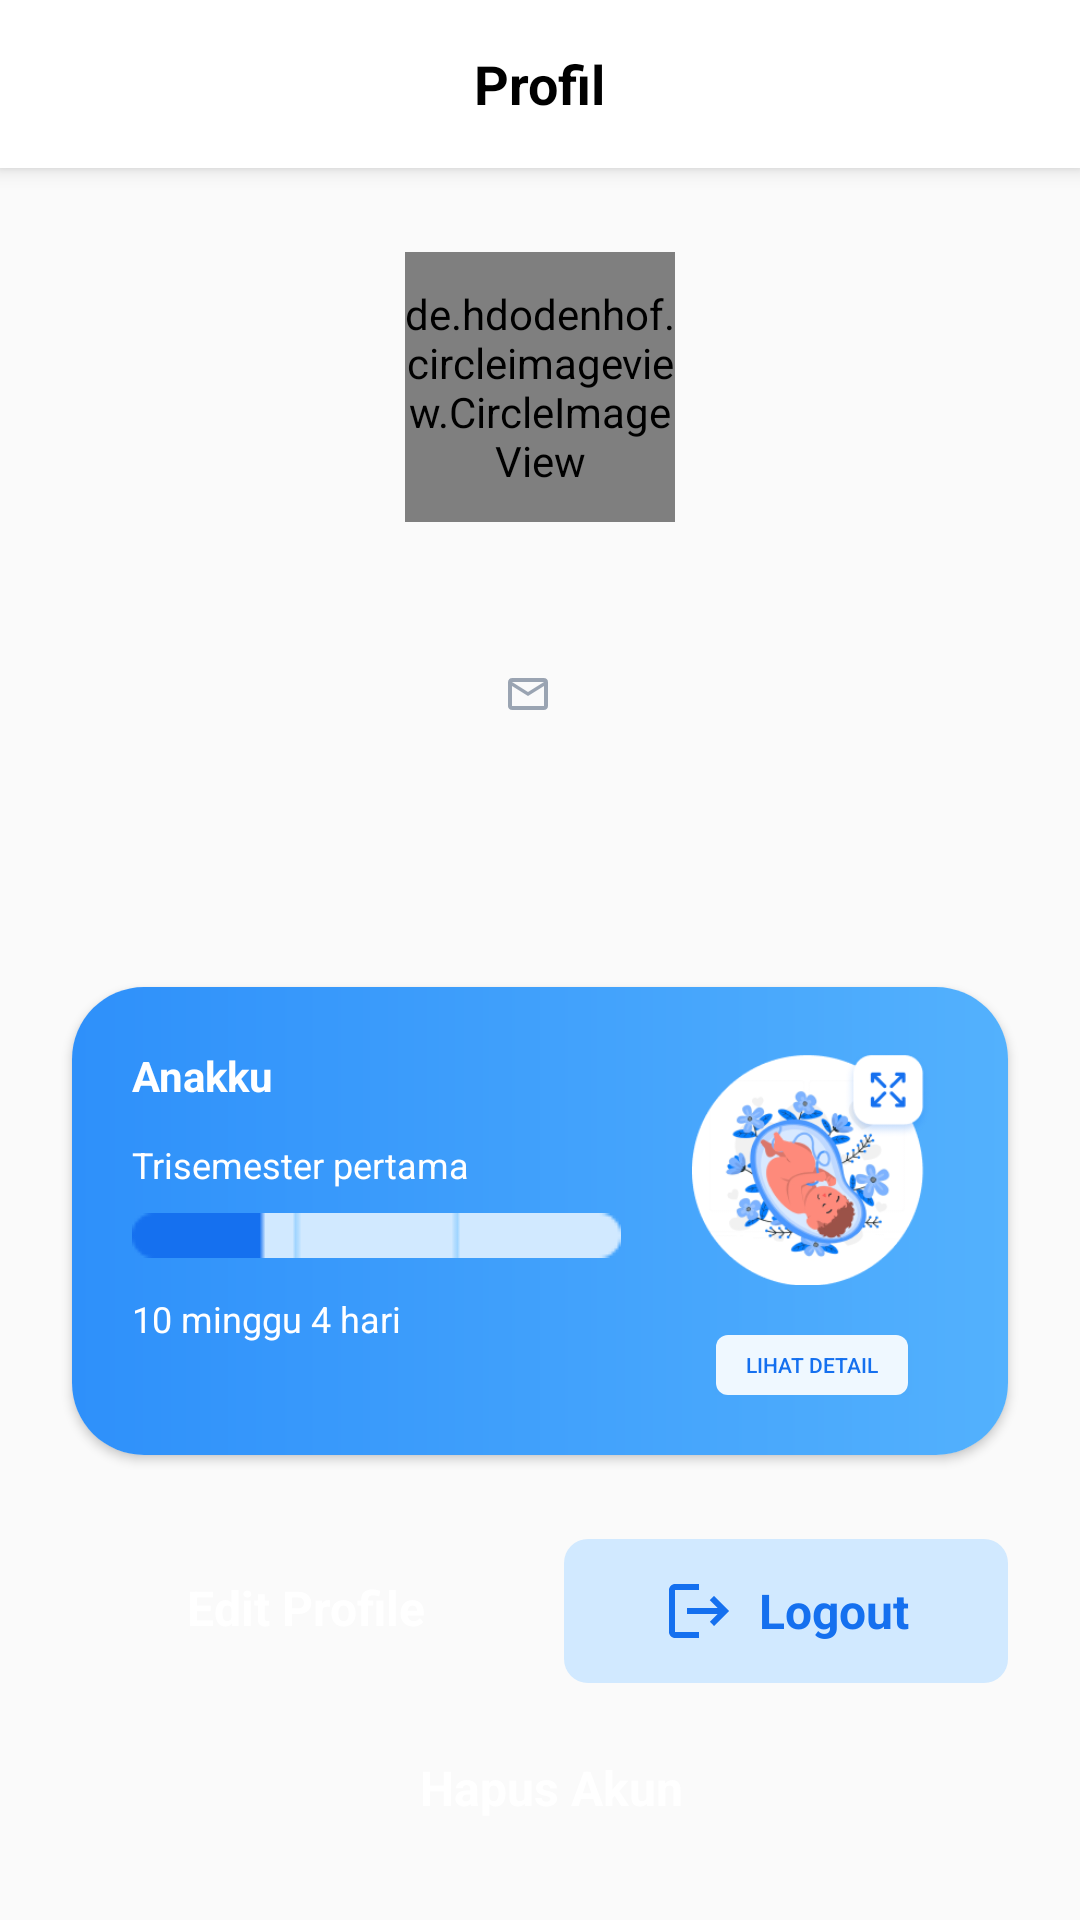

Icons on this 1080x1920 Android screen, each with its box as (x1, y1, x2, y2):
mail: (508, 678, 548, 710)
